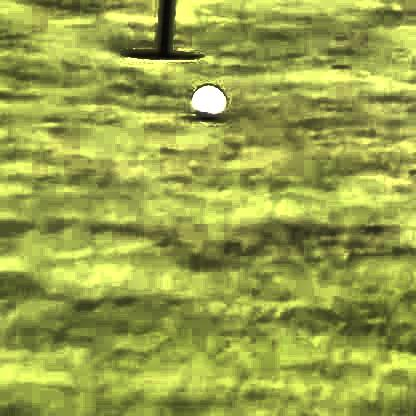golfball: (191, 79, 222, 115)
